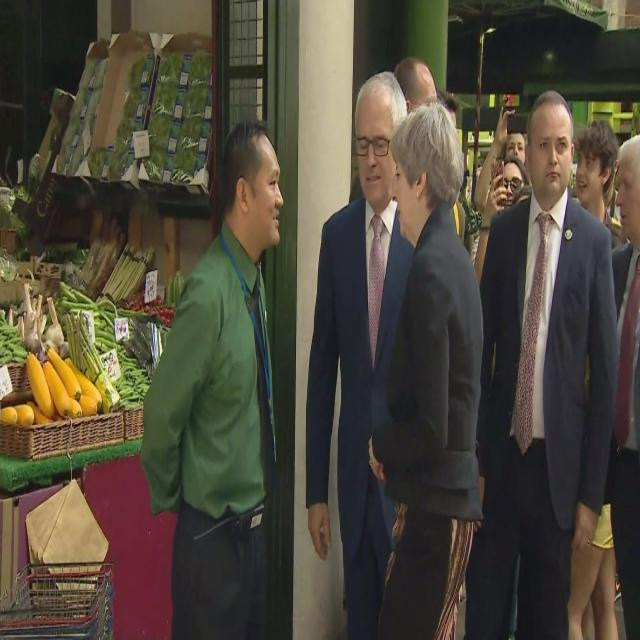body: (467, 87, 619, 638), (137, 111, 287, 639), (364, 95, 486, 640), (305, 64, 415, 638), (605, 129, 640, 640), (387, 52, 473, 252), (567, 116, 629, 280), (566, 473, 626, 639), (471, 154, 532, 293), (467, 100, 531, 218)
